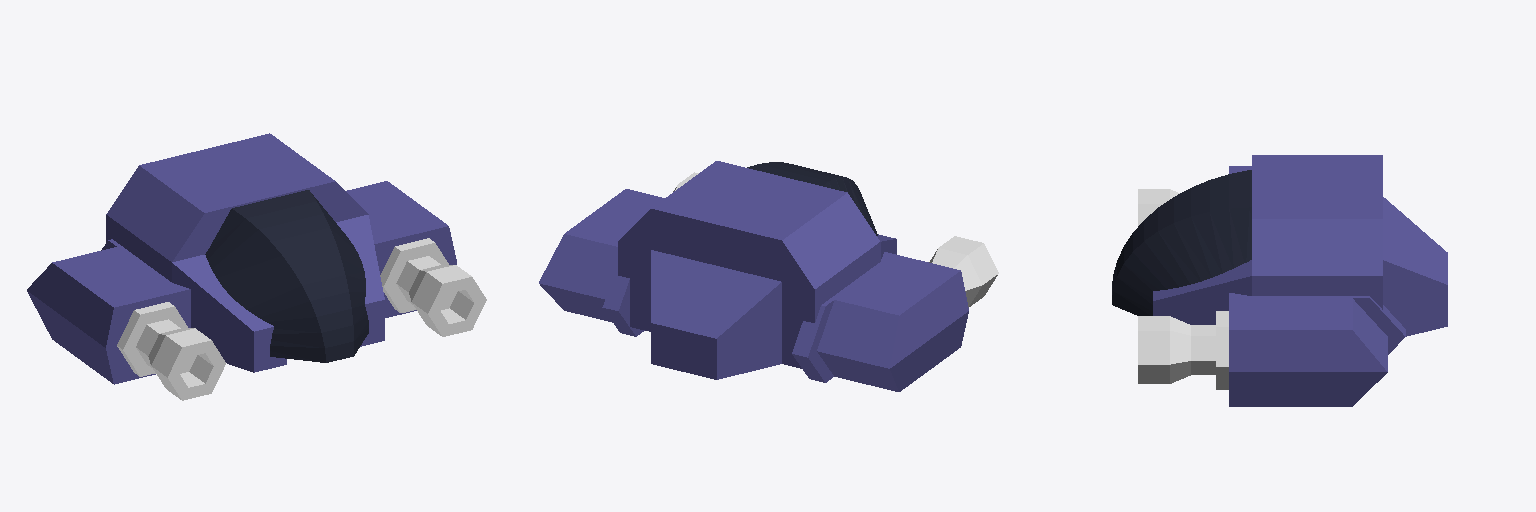
File: flying_02_00.obj
3 views of the same model, side by side, from view 1: azimuth 30°, elevation 25°; view 2: azimuth 150°, elevation 25°; view 3: azimuth 270°, elevation 25° (orthographic).
Parts seen in each view (by area): view 1: mergedBlocks; view 2: mergedBlocks; view 3: mergedBlocks.
Part boxes in pixels (x1,y1,x2,y2): mergedBlocks: (27, 133, 486, 400); mergedBlocks: (539, 161, 998, 391); mergedBlocks: (1112, 155, 1447, 406).
Size of the model in its own units: 1.61 by 0.604 by 1.33.